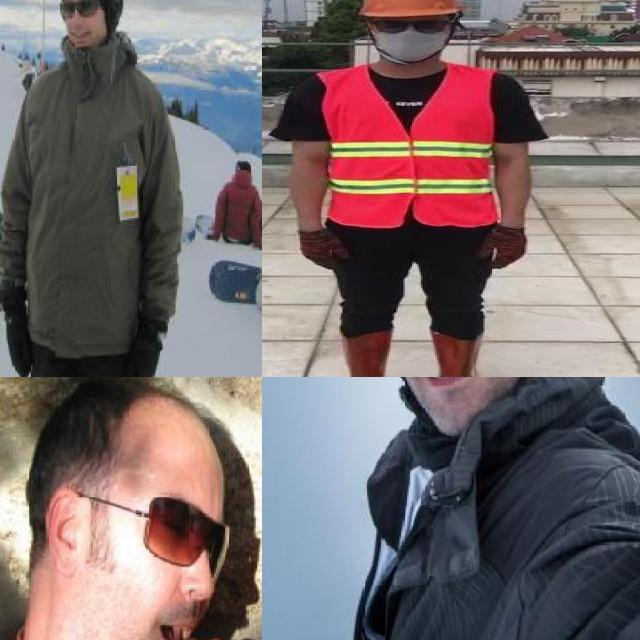boots: (429, 330, 499, 377), (330, 329, 390, 377)
face_mask: (371, 14, 448, 60)
face_nomask: (125, 495, 228, 640), (57, 0, 106, 47)
glasses: (54, 481, 225, 565), (366, 12, 453, 38), (57, 0, 103, 22)
hand_glove: (1, 309, 41, 377), (293, 227, 348, 271), (114, 321, 155, 377), (480, 226, 528, 270)
head_helmet: (356, 0, 466, 20)
head_nohelmet: (56, 377, 216, 452)
person: (263, 0, 553, 377), (0, 377, 257, 640), (17, 0, 161, 377), (216, 159, 262, 253)
vest: (316, 65, 499, 230)
